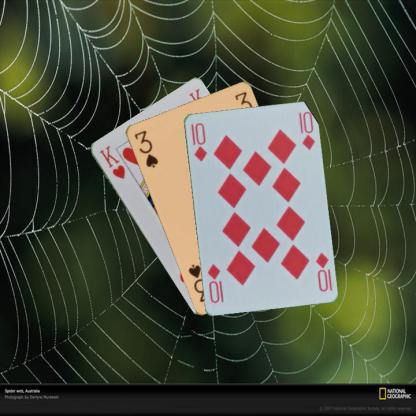10d: (312, 250, 334, 293), (188, 121, 208, 162)
3s: (131, 128, 160, 169)
Kh: (96, 143, 126, 181)
